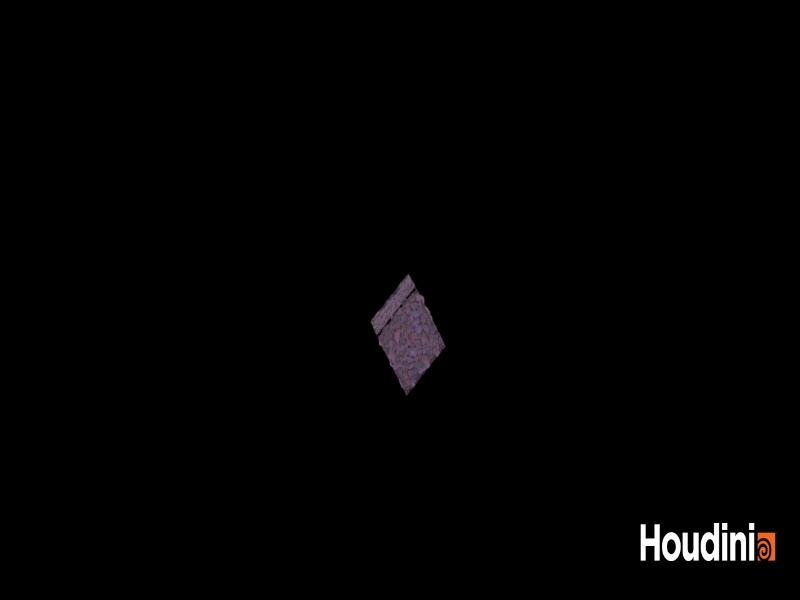waste: (359, 266, 460, 405)
